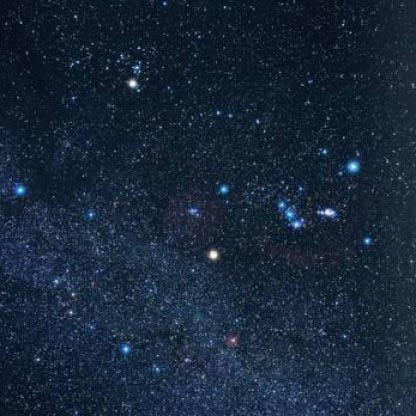Orion: (200, 242, 224, 268), (344, 155, 367, 180), (357, 228, 380, 252), (214, 179, 229, 203), (291, 218, 306, 232), (285, 207, 301, 218), (274, 196, 288, 207)
